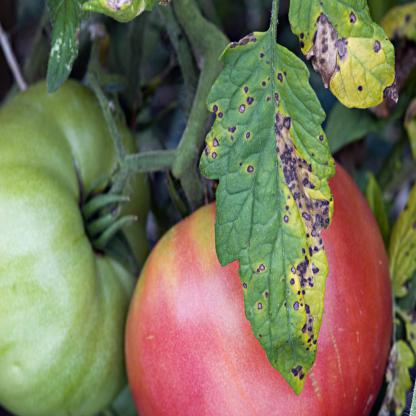tomato septoria leaf spot: (211, 27, 339, 390), (289, 3, 401, 110)
